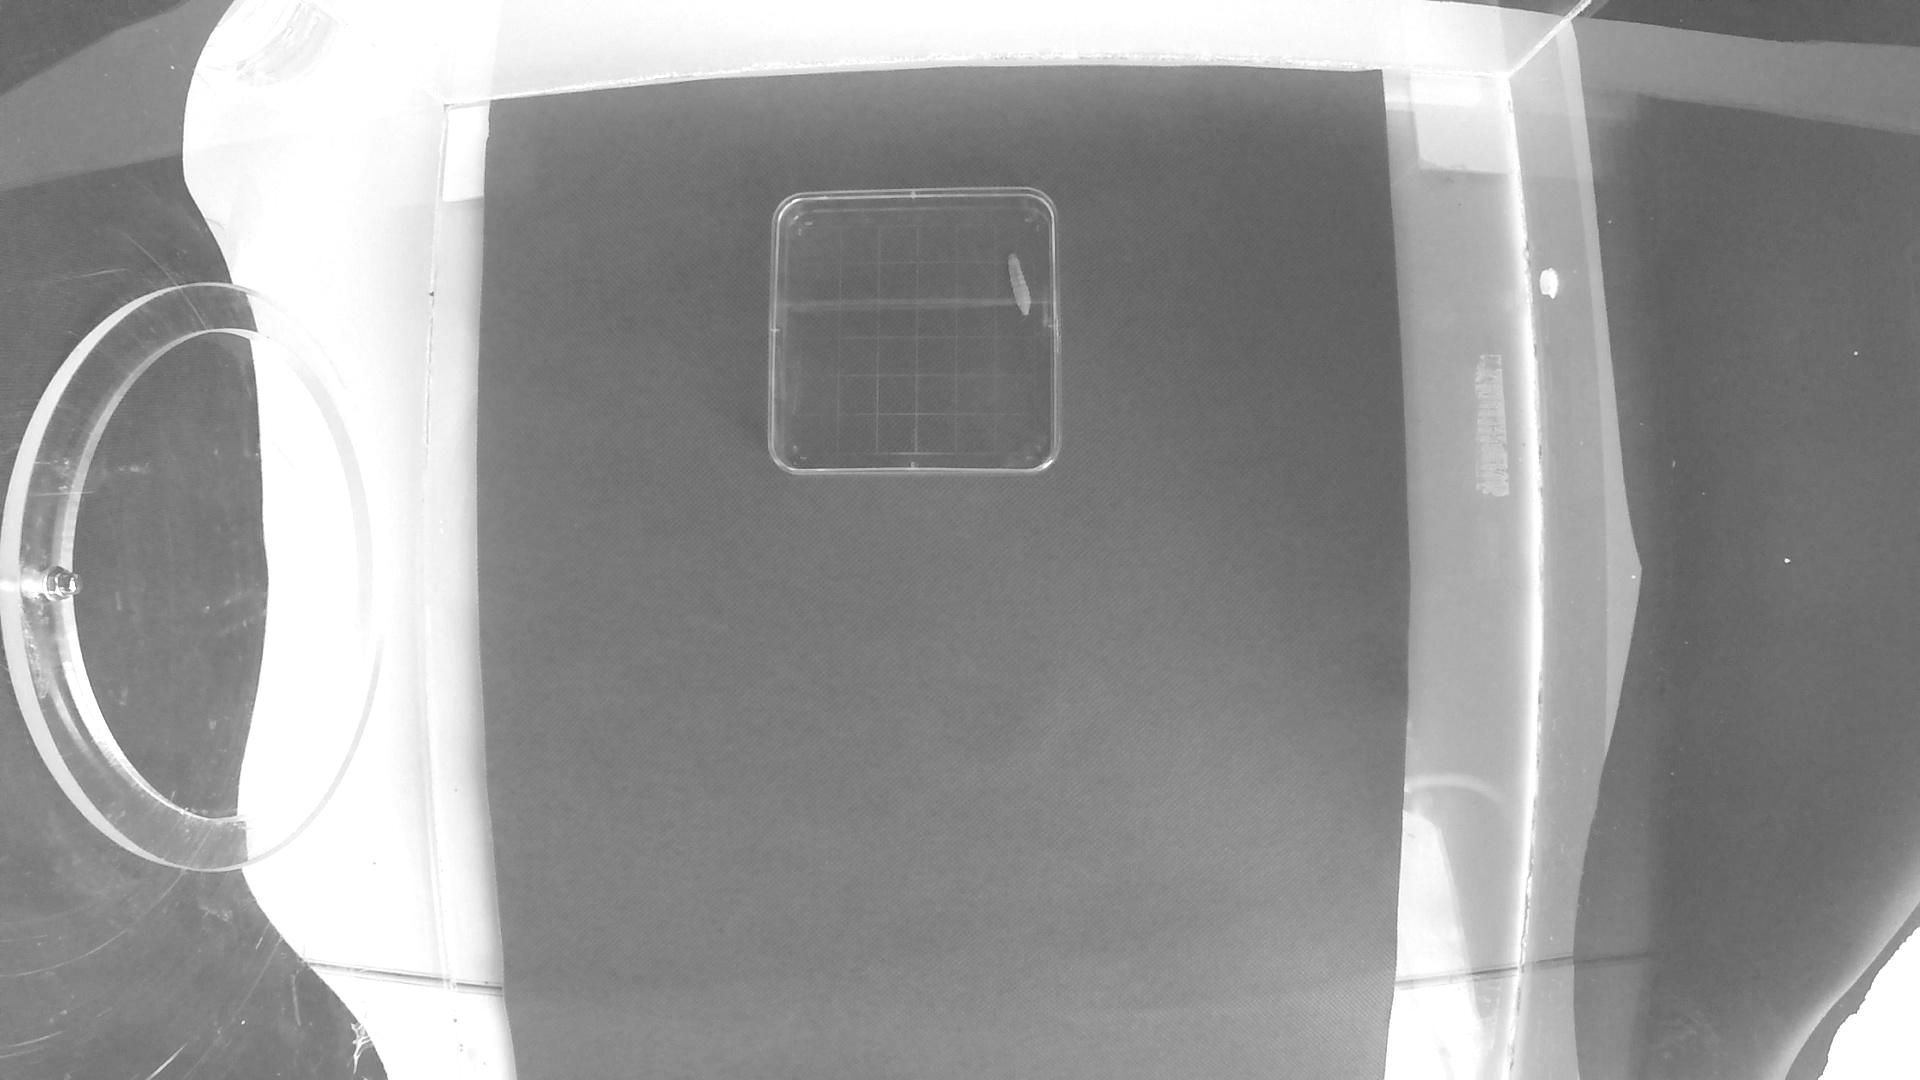larva: (1010, 253, 1040, 322)
